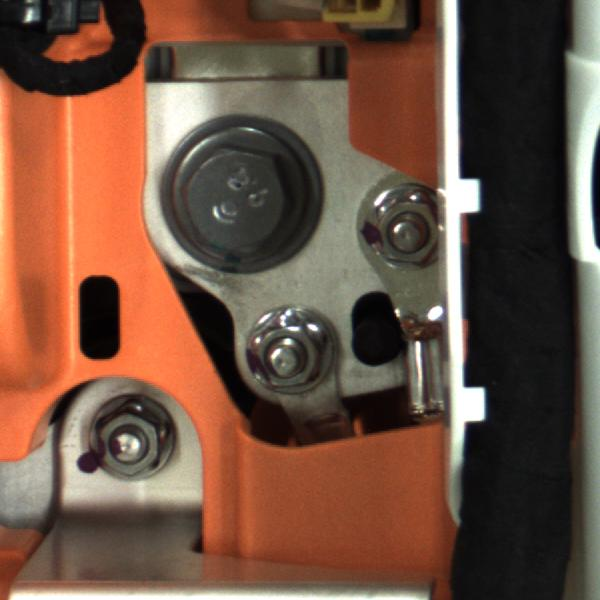nut_b: (163, 127, 330, 280)
screw_s: (243, 297, 340, 403), (84, 390, 182, 490), (353, 183, 452, 281)
